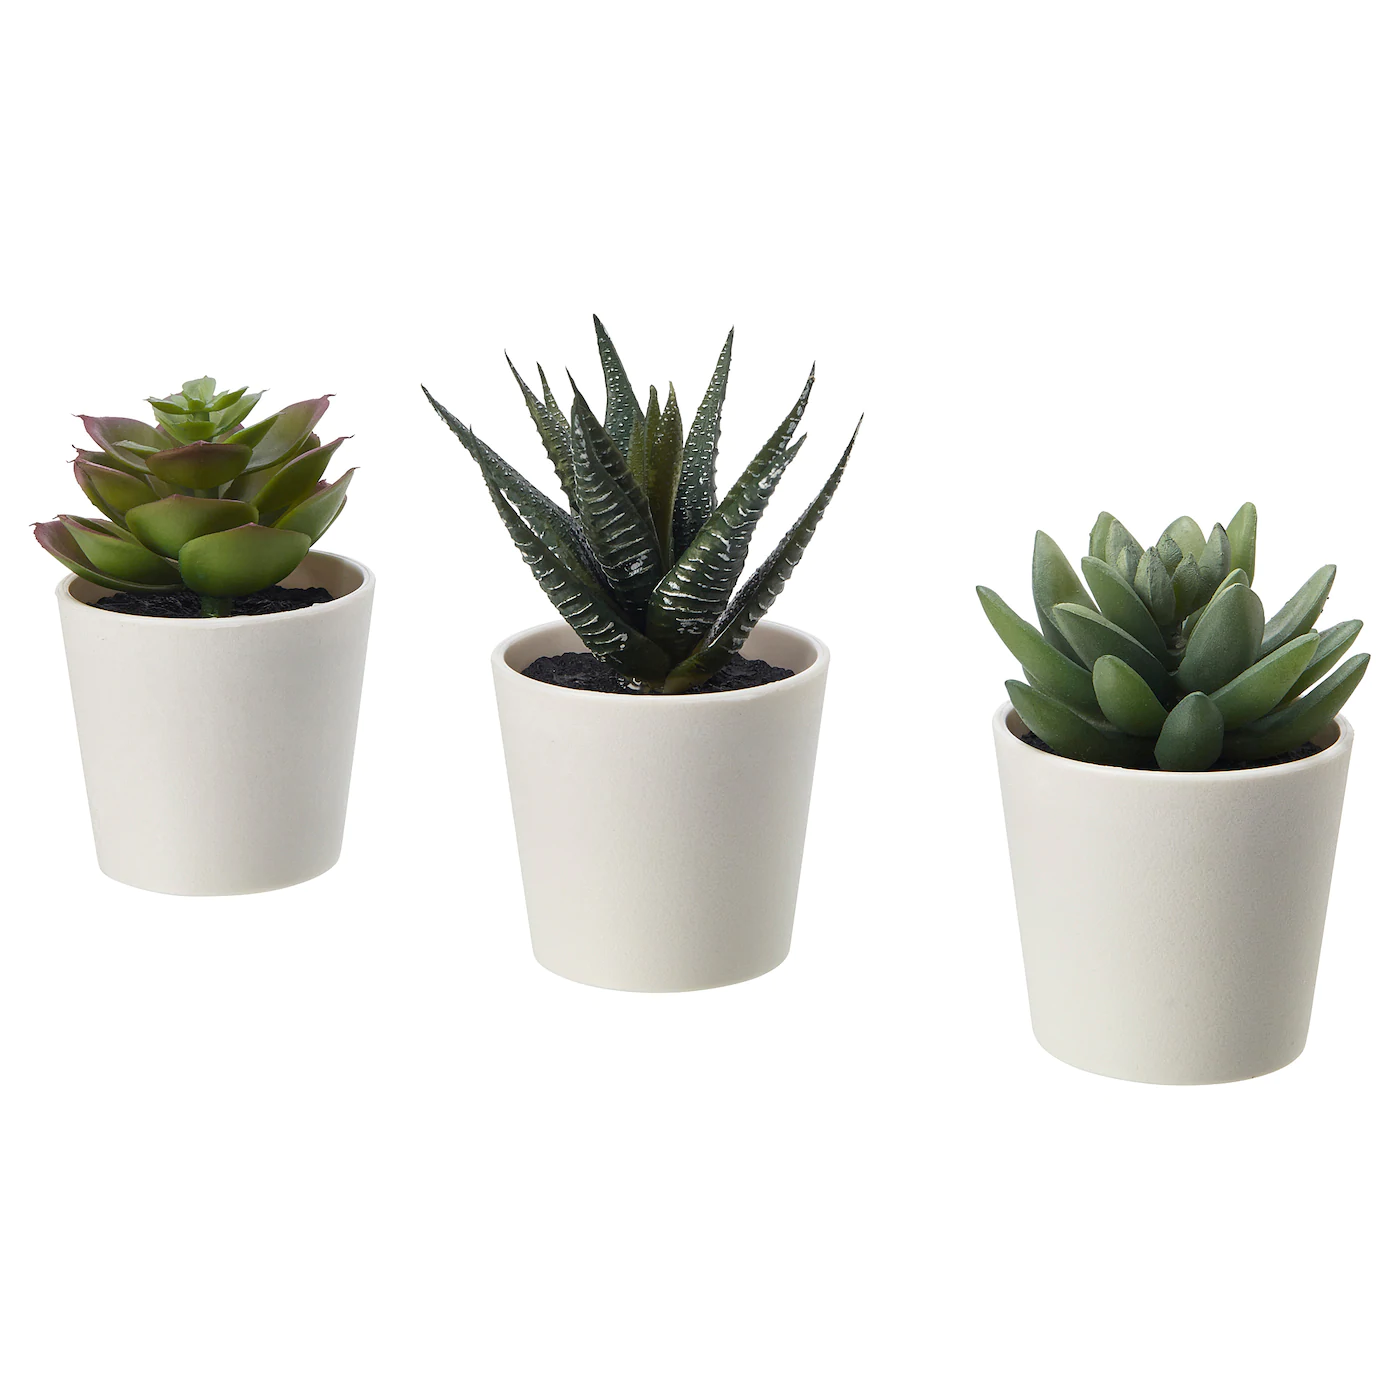plant: (410, 308, 868, 878), (974, 500, 1374, 885), (24, 376, 379, 788)
